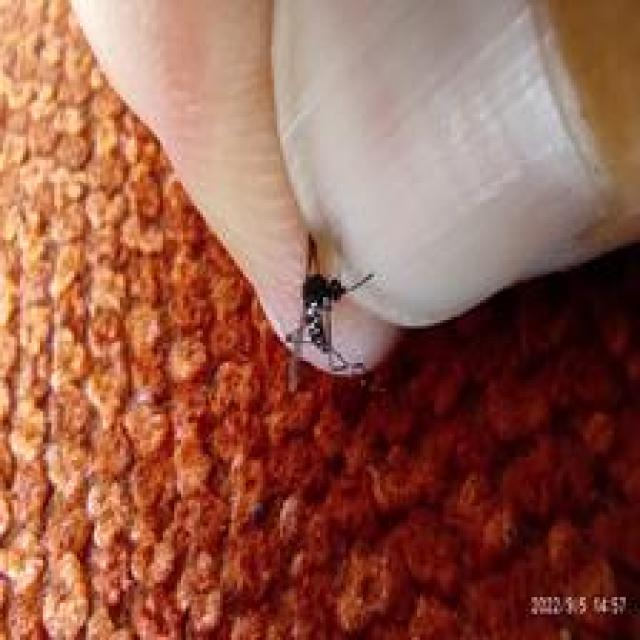Aedes albopictus: (284, 270, 376, 376)
